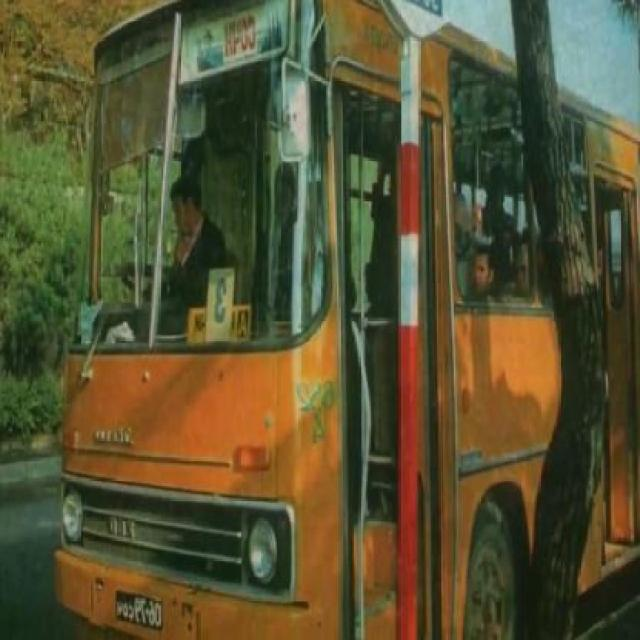bus: (92, 27, 630, 630)
